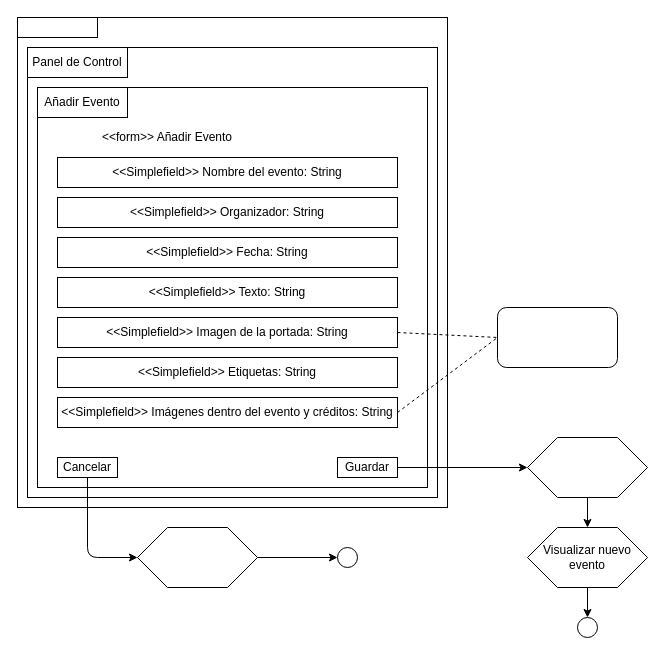
Image size: 665x655. Some labels were removed from this diagram. Here are the shapes that lost their labels. From the top down, the centre of each, then its label:
At [57,27]: "Página Web".
At [557,337]: "<<Details>> Ruta donde están contenidas las imágenes".
At [587,467]: "Añadir datos del evento a la BD".
At [197,557]: "Delete".
